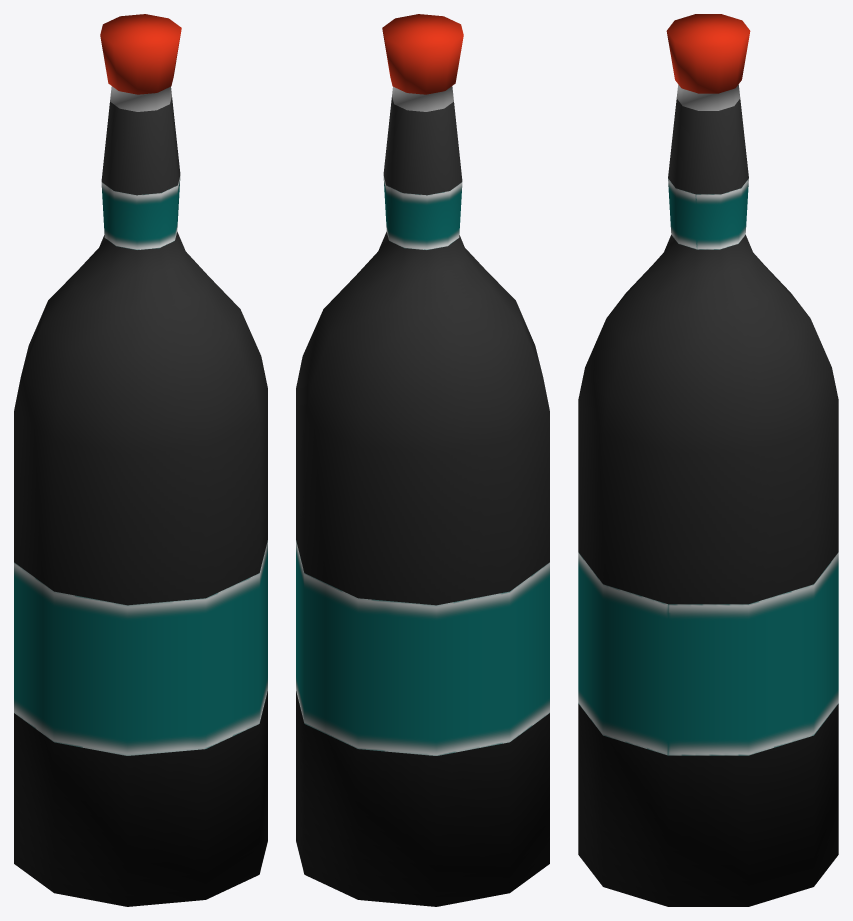
The model's file is BotolKecap.fbx.
3 views of the same model, side by side, from view 1: azimuth 30°, elevation 25°; view 2: azimuth 150°, elevation 25°; view 3: azimuth 270°, elevation 25° (orthographic).
Parts seen in each view (by area): view 1: Botol Kecap_LOD0; view 2: Botol Kecap_LOD0; view 3: Botol Kecap_LOD0.
Part boxes in pixels (bbox=[...]): Botol Kecap_LOD0: bbox=[14, 14, 267, 906]; Botol Kecap_LOD0: bbox=[296, 14, 549, 906]; Botol Kecap_LOD0: bbox=[578, 14, 838, 906].
Size of what is drawn, in the model's own units: 220 by 811 by 232.
